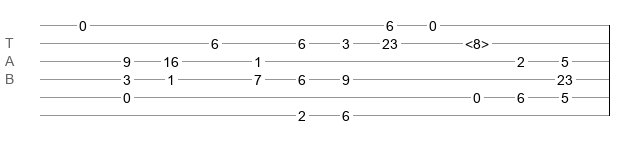0: (79, 18, 87, 28), (123, 90, 131, 100), (429, 18, 437, 28), (473, 90, 481, 100)
1: (167, 72, 175, 82), (254, 54, 262, 64)
16: (163, 54, 179, 64)
2: (298, 108, 306, 118), (517, 54, 525, 64)
23: (382, 36, 398, 46), (557, 72, 573, 82)
3: (123, 72, 131, 82), (342, 36, 350, 46)
5: (561, 90, 569, 100), (561, 54, 569, 64)
6: (211, 36, 219, 46), (298, 36, 306, 46), (298, 72, 306, 82), (342, 108, 350, 118), (386, 18, 394, 28), (517, 90, 525, 100)
7: (254, 72, 262, 82)
9: (123, 54, 131, 64), (342, 72, 350, 82)
harmonic: (465, 36, 489, 46)
